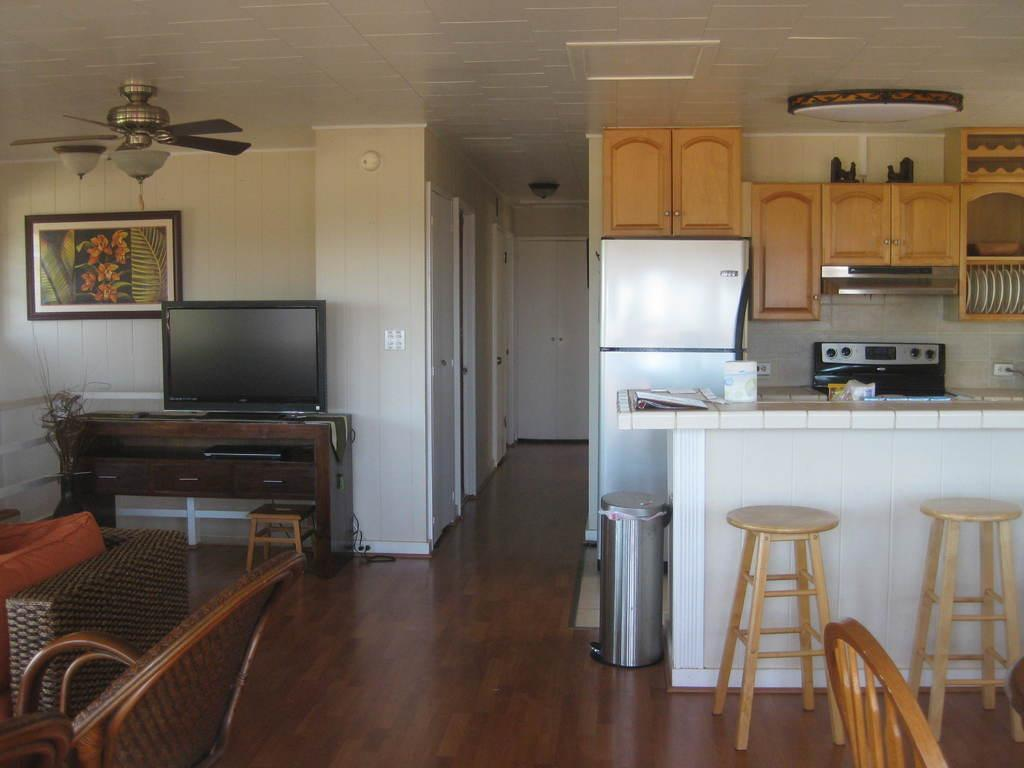door: (518, 244, 562, 432), (432, 200, 454, 524), (558, 246, 590, 432), (494, 232, 510, 454)
handle: (496, 353, 504, 367)
